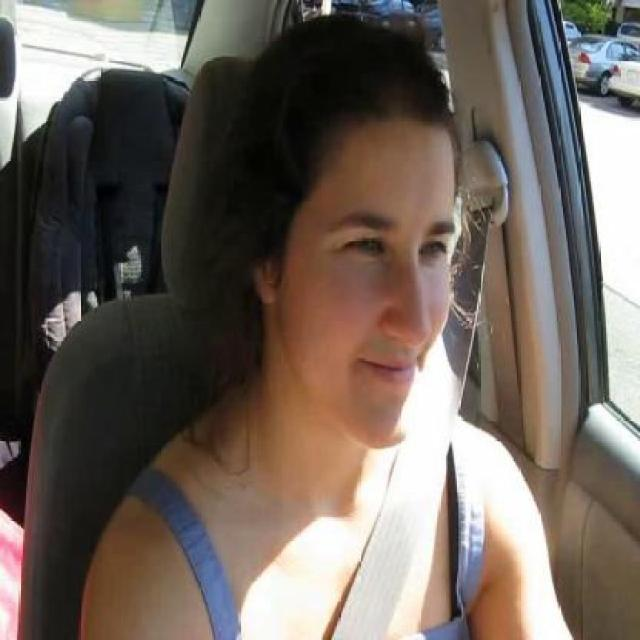awake: (342, 233, 382, 261), (418, 237, 447, 261)
